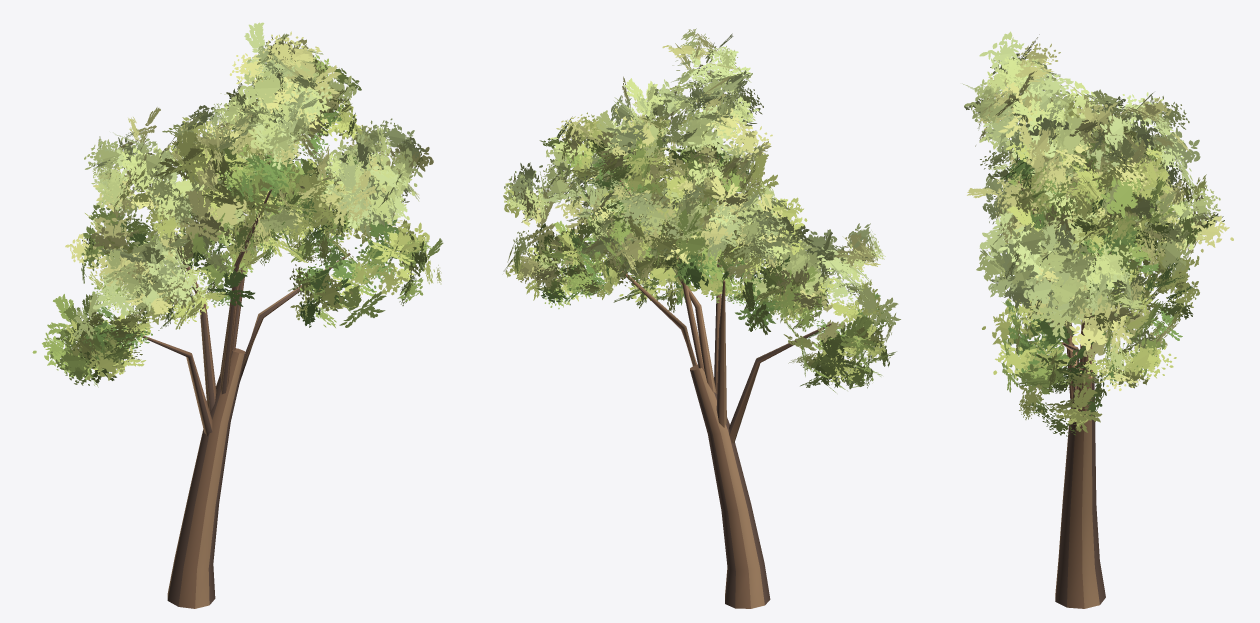
The model's file is Tree_04_Leaning_Sunlit.glb.
3 views of the same model, side by side, from view 1: azimuth 30°, elevation 25°; view 2: azimuth 150°, elevation 25°; view 3: azimuth 270°, elevation 25° (orthographic). The views are drawn at different scales.
Parts seen in each view (by area): view 1: Tree_04_Leaning_Sunlit; view 2: Tree_04_Leaning_Sunlit; view 3: Tree_04_Leaning_Sunlit.
Boxes of the visible parts, bbox=[...] form: Tree_04_Leaning_Sunlit: bbox=[32, 22, 443, 608]; Tree_04_Leaning_Sunlit: bbox=[503, 28, 900, 608]; Tree_04_Leaning_Sunlit: bbox=[962, 31, 1233, 608].
Size of the model in its own units: 6.08 by 7.88 by 3.46.
9 materials, 6 textured.
